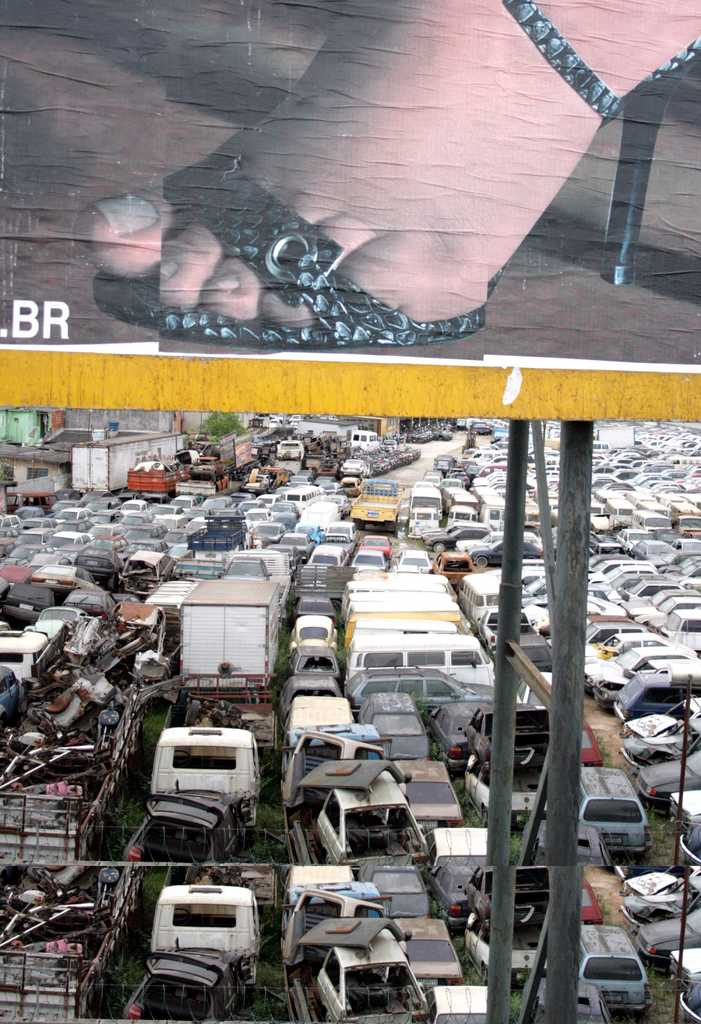Car: (2, 421, 700, 1023), (562, 929, 667, 1012)
